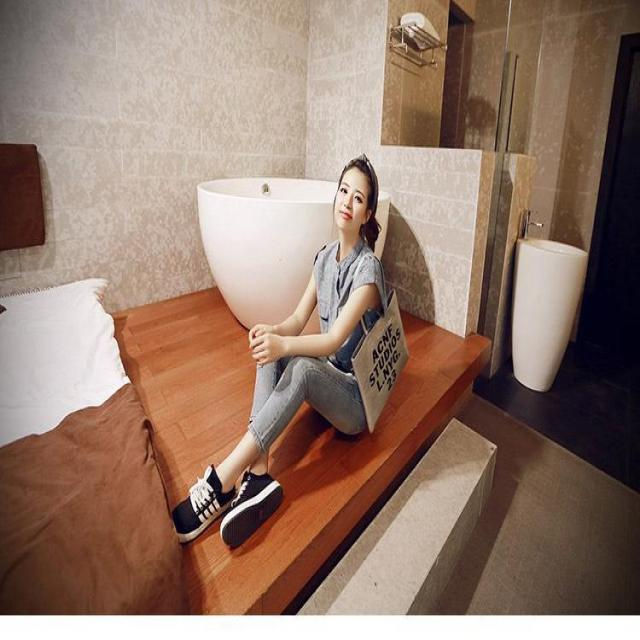short-sleeve-top: (302, 248, 412, 410)
